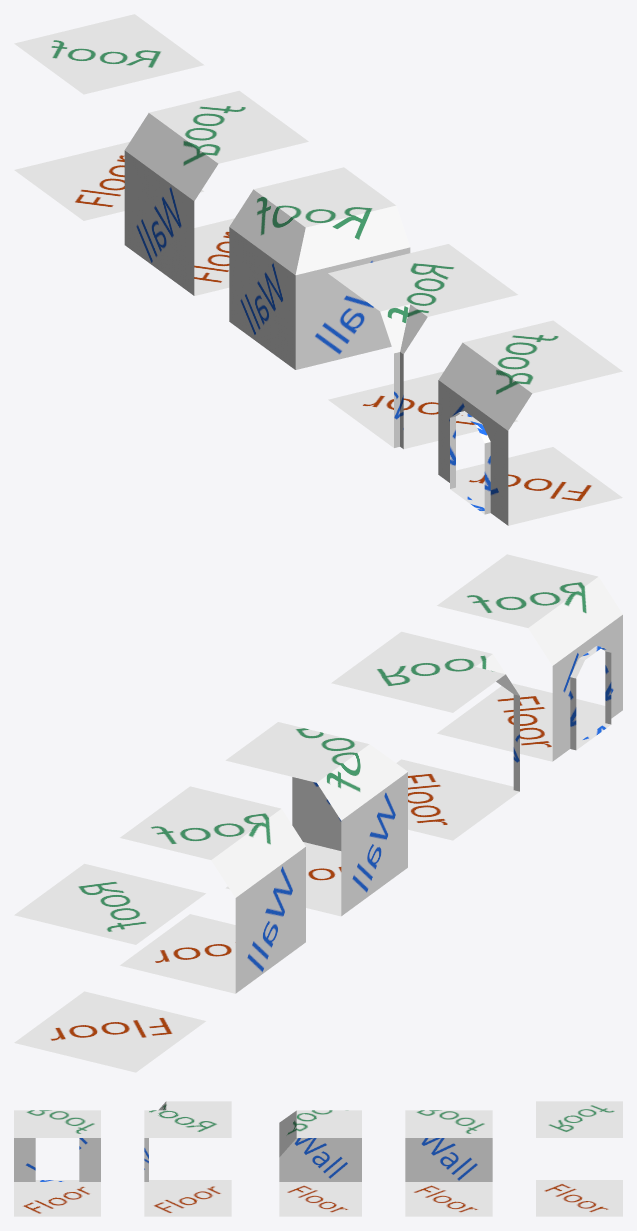
File: DungeonTiles.glb
3 renders of one model, top to bottom at view 1: azimuth 30°, elevation 25°; view 2: azimuth 150°, elevation 25°; view 3: azimuth 270°, elevation 25°, orthographic. The views are drawn at different scales.
Parts seen in each view (by area): view 1: Corner-col, Doorway-col, Wall-col, Inner-col, Floor-col; view 2: Wall-col, Doorway-col, Corner-col, Floor-col, Inner-col; view 3: Wall-col, Corner-col, Doorway-col, Inner-col, Floor-col.
Part boxes in pixels (<box>): Corner-col: <box>229,167,410,369</box>; Doorway-col: <box>438,320,622,525</box>; Wall-col: <box>124,90,308,295</box>; Inner-col: <box>328,244,517,449</box>; Floor-col: <box>14,14,204,220</box>; Wall-col: <box>120,786,305,993</box>; Doorway-col: <box>437,554,622,761</box>; Corner-col: <box>225,722,407,916</box>; Floor-col: <box>14,863,205,1072</box>; Inner-col: <box>331,631,519,840</box>; Wall-col: <box>405,1110,492,1216</box>; Corner-col: <box>279,1110,361,1216</box>; Doorway-col: <box>14,1110,100,1216</box>; Inner-col: <box>144,1101,231,1216</box>; Floor-col: <box>536,1101,622,1216</box>.
Size of the model in its own units: 2 by 2 by 14.
3 materials, 3 textured.
